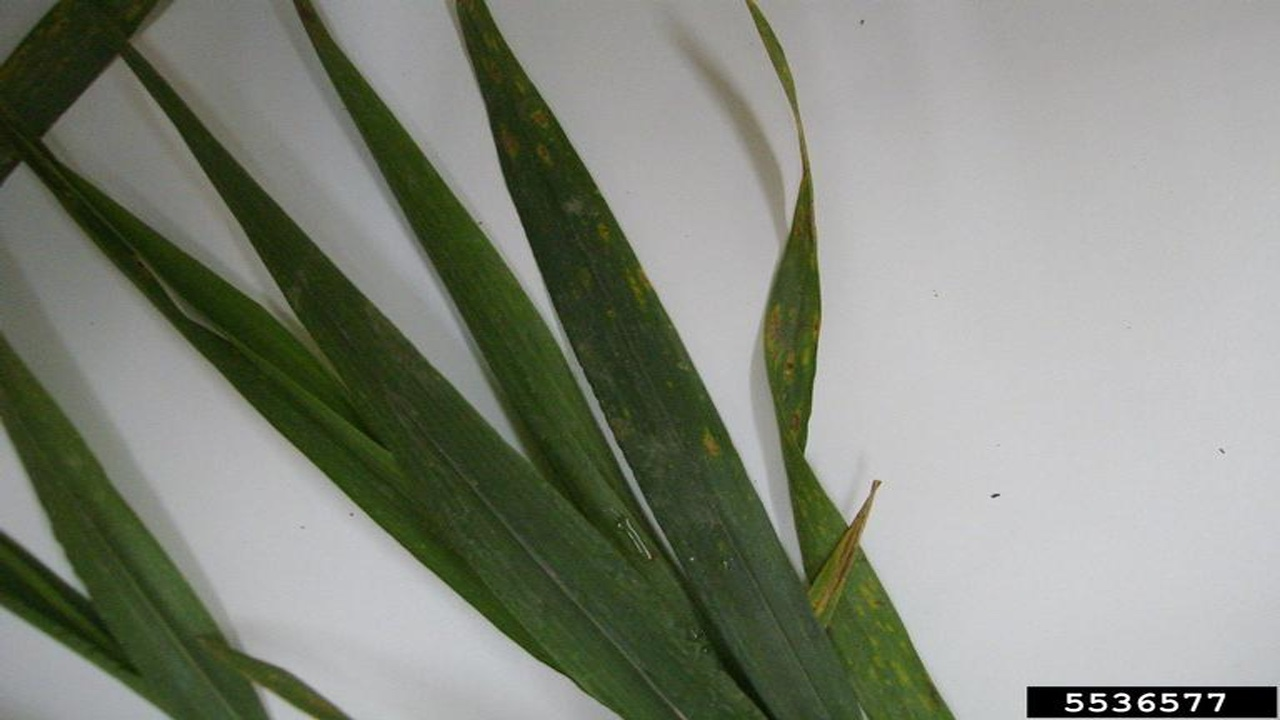tan_spot: (456, 2, 763, 720), (748, 2, 951, 720)
